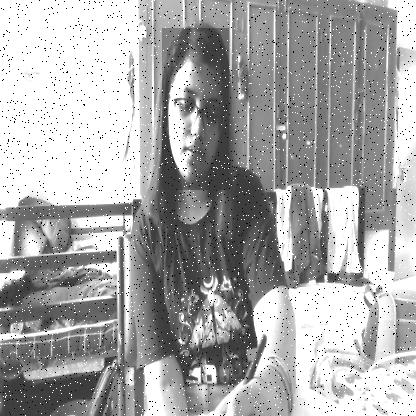Normal: (162, 28, 229, 190)
